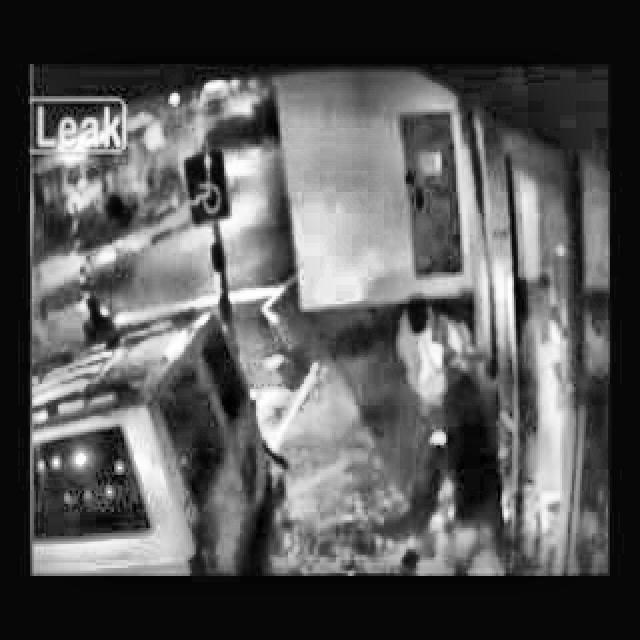burglary: (120, 243, 610, 574)
